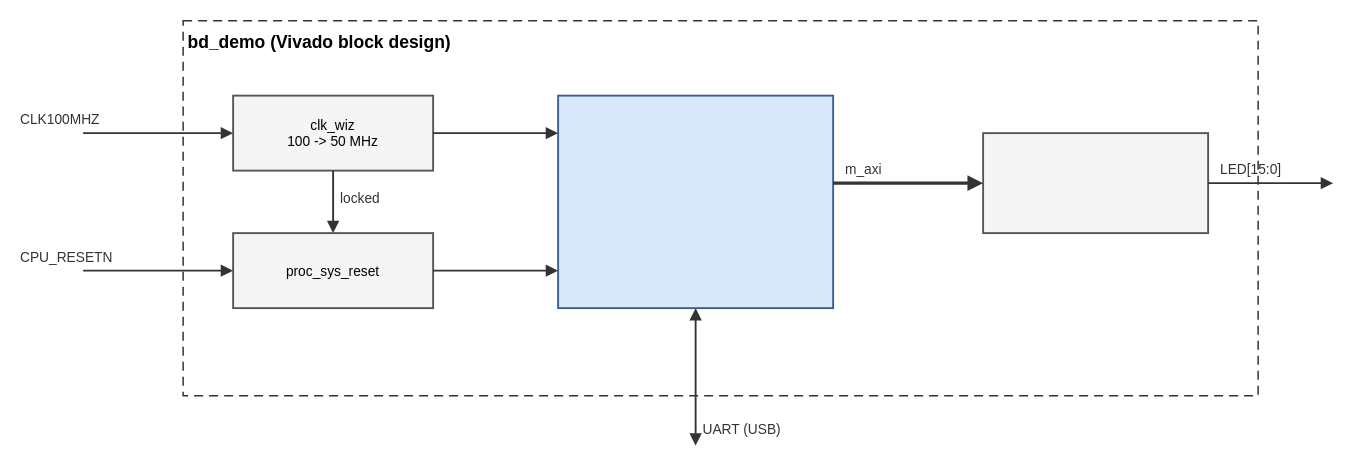
This 1366x464 diagram has some shape labels left out. Here are the shapes that lost their labels. From the top down, the centre of each, then its label:
pixel 695 201: HORNET RV32IMF SoC (packaged IP, hornet_soc)
pixel 1095 183: Xilinx AXI GPIO @ 0x4000_0000
